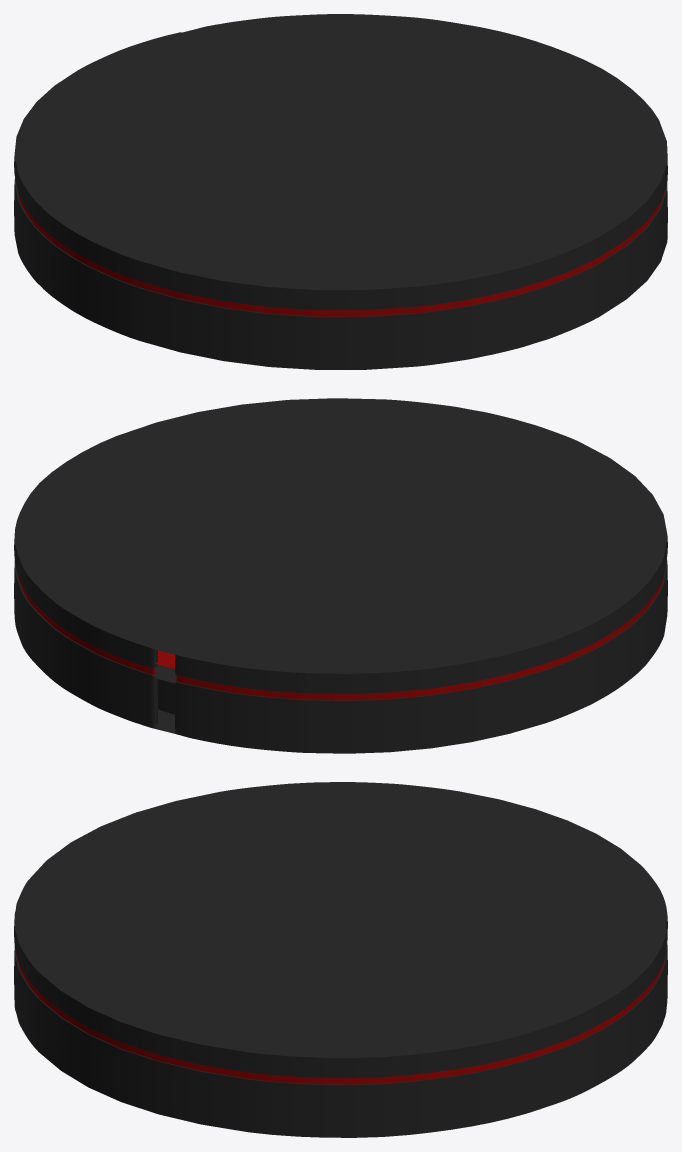
File: maze_v3.fbx
3 renders of one model, top to bottom at view 1: azimuth 30°, elevation 25°; view 2: azimuth 150°, elevation 25°; view 3: azimuth 270°, elevation 25°, orthographic.
Visible parts, largest first — view 1: polySurface3, polySurface1, polySurface2; view 2: polySurface3, polySurface1, polySurface2; view 3: polySurface3, polySurface1, polySurface2.
Boxes of the visible parts, left/top/right/bottom form: polySurface3: left=14, top=14, right=667, bottom=309; polySurface1: left=14, top=178, right=667, bottom=369; polySurface2: left=18, top=187, right=665, bottom=316; polySurface3: left=14, top=398, right=667, bottom=693; polySurface1: left=14, top=559, right=667, bottom=753; polySurface2: left=16, top=571, right=663, bottom=700; polySurface3: left=14, top=782, right=667, bottom=1077; polySurface1: left=14, top=944, right=667, bottom=1137; polySurface2: left=16, top=953, right=664, bottom=1084.
Bounding box in the file's own units: 39.67 × 5.35 × 39.67.
